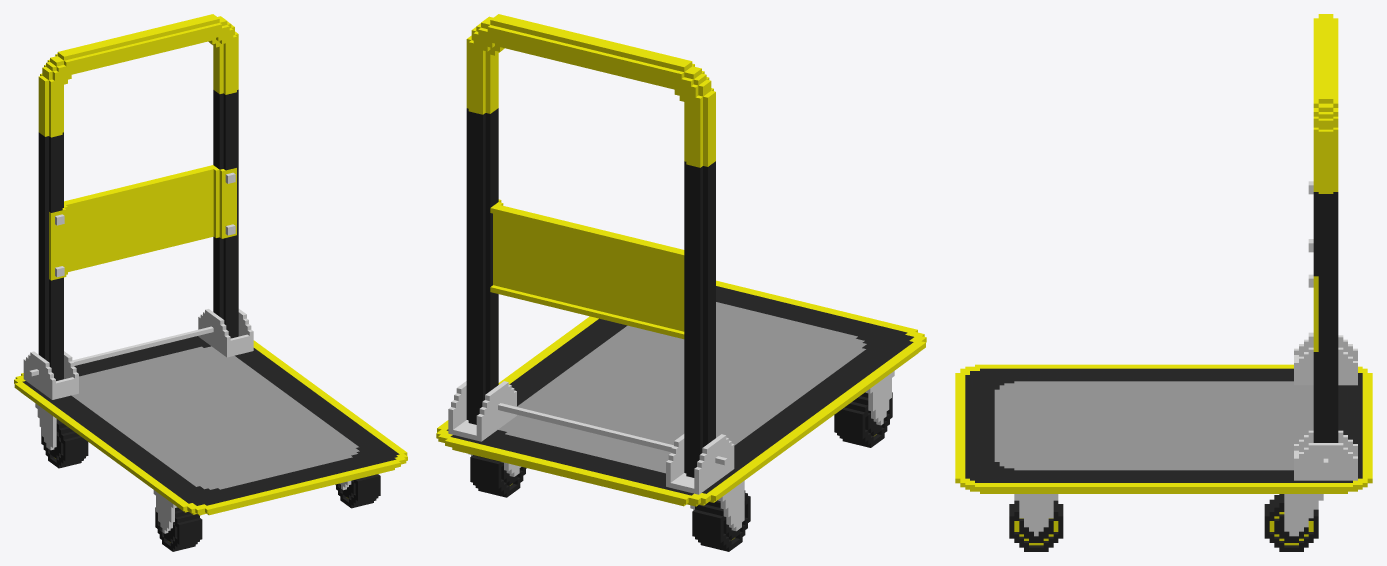
Rendered from Cart1.fbx.
The picture shows the model from 3 angles, left to right: view 1: azimuth 30°, elevation 25°; view 2: azimuth 150°, elevation 25°; view 3: azimuth 270°, elevation 25°; orthographic projection. The views are drawn at different scales.
Visible parts, largest first — view 1: Cart1.001, Cart1; view 2: Cart1.001, Cart1; view 3: Cart1.001, Cart1.
Part boxes in pixels (bbox=[...]): Cart1.001: bbox=[14, 309, 407, 551]; Cart1: bbox=[38, 14, 238, 380]; Cart1.001: bbox=[436, 280, 926, 551]; Cart1: bbox=[466, 14, 715, 477]; Cart1.001: bbox=[955, 335, 1372, 551]; Cart1: bbox=[1308, 14, 1338, 442].
Bounding box in the file's own units: 5.9 × 9.9 × 8.5.
